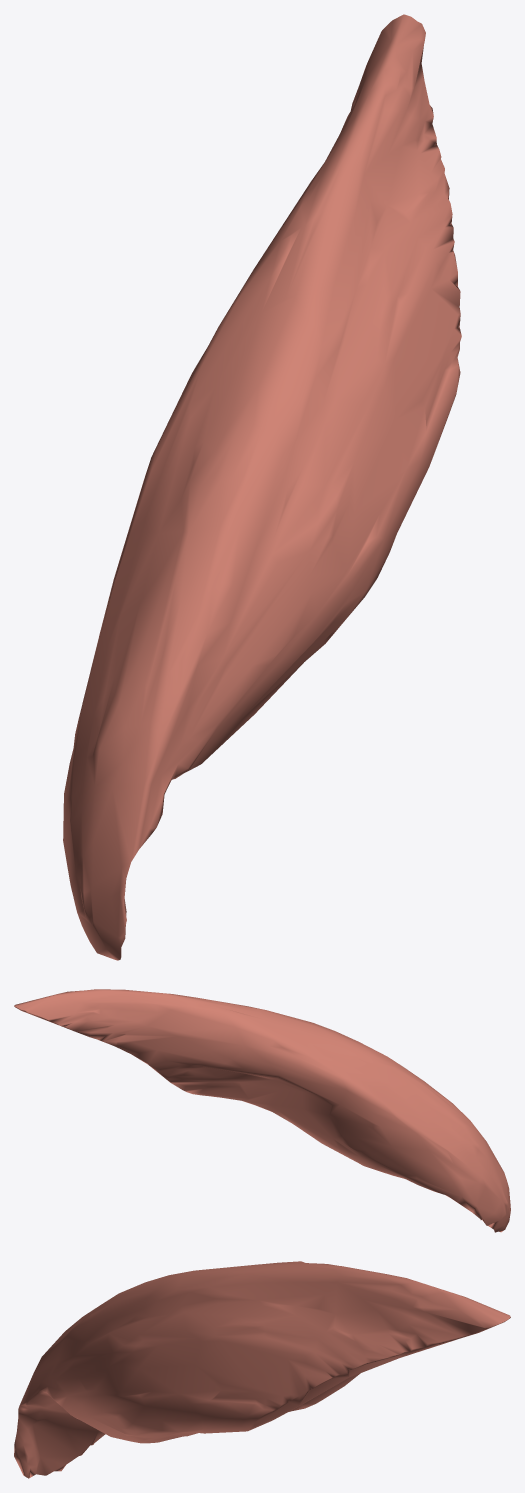
3 renders of one model, top to bottom at view 1: azimuth 30°, elevation 25°; view 2: azimuth 150°, elevation 25°; view 3: azimuth 270°, elevation 25°, orthographic. The views are drawn at different scales.
Parts seen in each view (by area): view 1: 右侧小圆肌; view 2: 右侧小圆肌; view 3: 右侧小圆肌.
Boxes of the visible parts, x1,y1,x2,y2 form: 右侧小圆肌: (63, 14, 461, 960); 右侧小圆肌: (14, 989, 510, 1232); 右侧小圆肌: (14, 1261, 510, 1478).
Size of the model in its own units: 0.1416 by 0.1118 by 0.1319.
